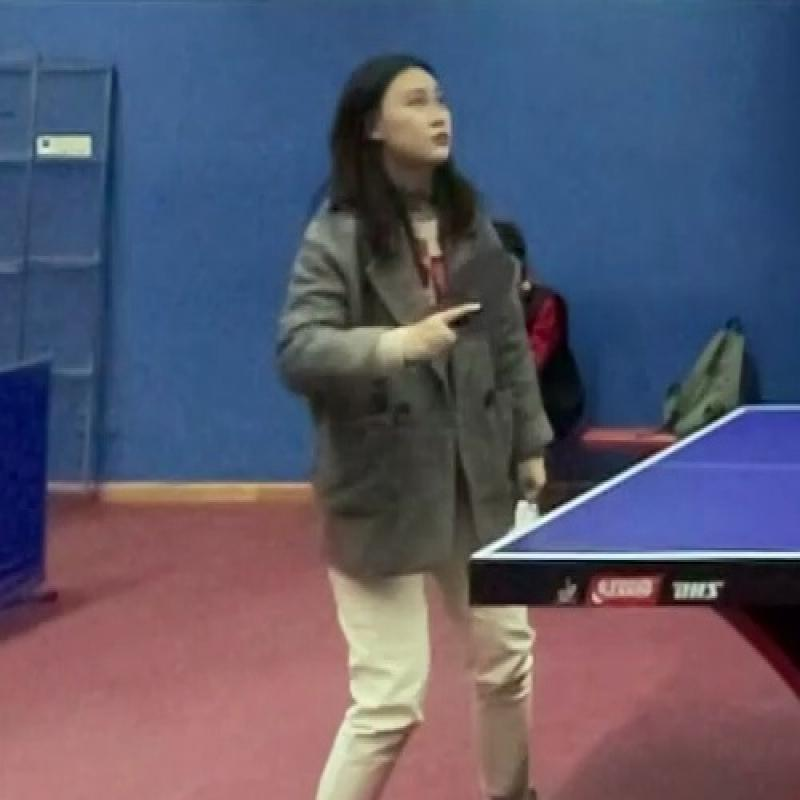bats: (435, 242, 528, 357)
